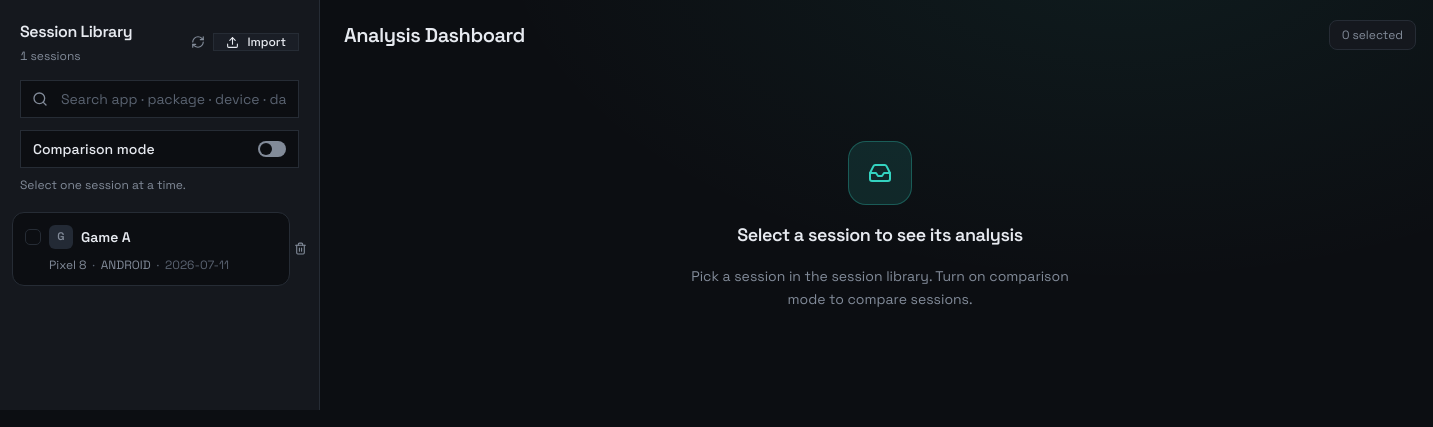
Test case: AnalysisDashboard › keeps the row and surfaces a per-file deletion failure
This screenshot has width=1433, height=427.
Expected: the text "Game A" is shown, x1=81 y1=228 x2=131 y2=246
Click the button named "Delete session: Game A": (300, 248) x1=294 y1=242 x2=307 y2=255
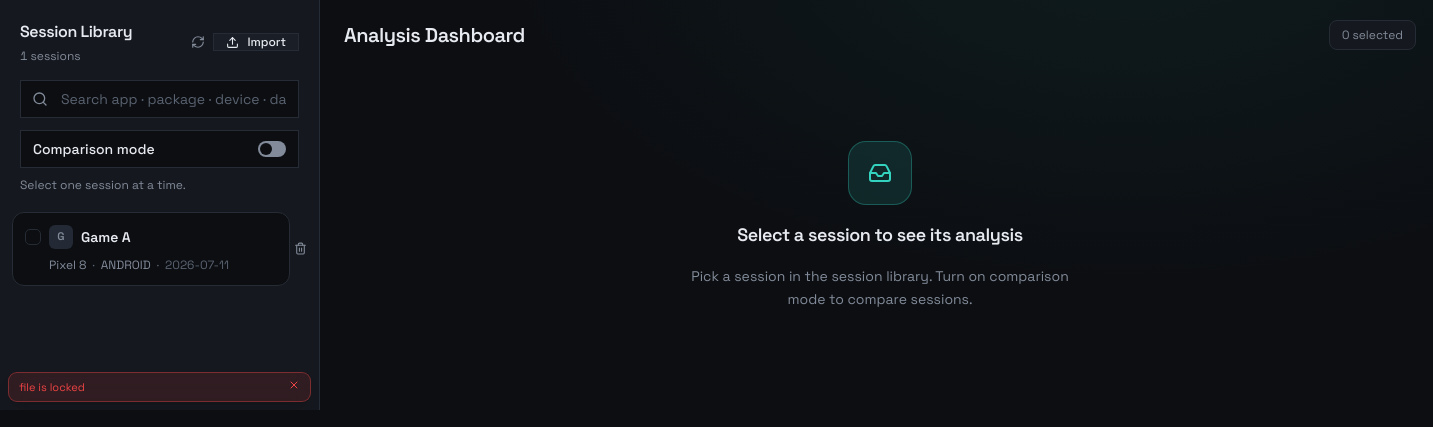
Expected: the text "Game A" is shown, x1=81 y1=228 x2=131 y2=246
Now the text "file is locked" is shown, box x1=19 y1=378 x2=85 y2=395
